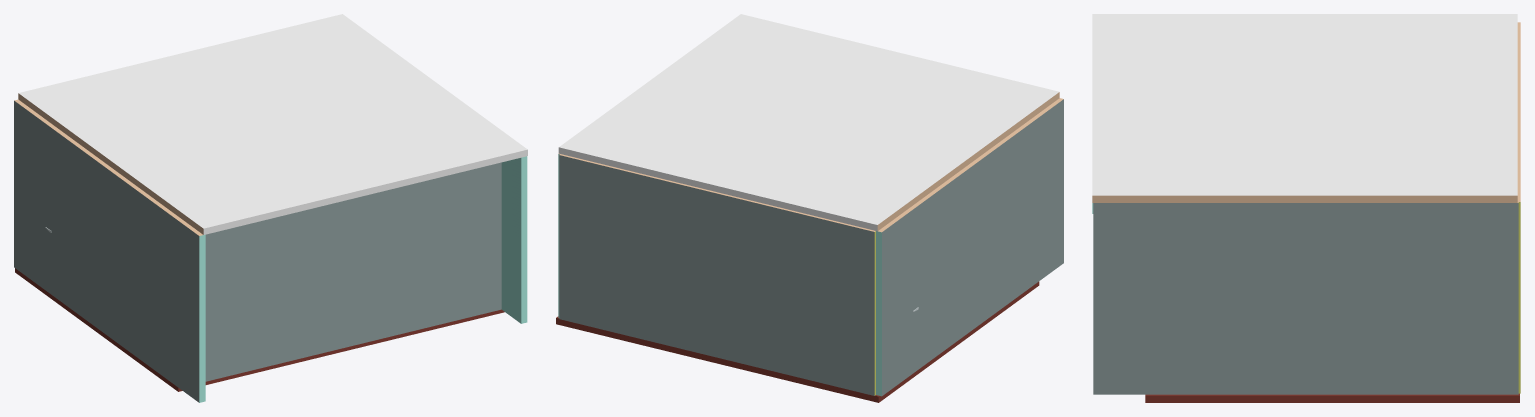
File: bedroom.glb
3 renders of one model, left to right at view 1: azimuth 30°, elevation 25°; view 2: azimuth 150°, elevation 25°; view 3: azimuth 270°, elevation 25°, orthographic. The views are drawn at different scales.
Visible parts, largest first — view 1: wall(Clone).036, wall(Clone).034, wall(Clone).033, wall(Clone).035, floorFull(Clone); view 2: wall(Clone).036, wall(Clone).032, wall(Clone).033, floorFull(Clone); view 3: wall(Clone).035, wall(Clone).036, floorFull(Clone), wall(Clone).032.
Boxes of the visible parts, <box> form: wall(Clone).036: <box>18,14,527,234</box>; wall(Clone).034: <box>205,162,501,381</box>; wall(Clone).033: <box>14,99,205,402</box>; wall(Clone).035: <box>501,156,527,323</box>; floorFull(Clone): <box>15,268,504,391</box>; wall(Clone).036: <box>558,14,1059,231</box>; wall(Clone).032: <box>559,154,875,395</box>; wall(Clone).033: <box>876,98,1063,396</box>; floorFull(Clone): <box>556,281,1039,402</box>; wall(Clone).035: <box>1093,201,1518,394</box>; wall(Clone).036: <box>1092,14,1517,202</box>; floorFull(Clone): <box>1145,393,1519,402</box>; wall(Clone).032: <box>1517,22,1520,393</box>.
Size of the model in its own units: 2.67 by 1.39 by 2.61.
